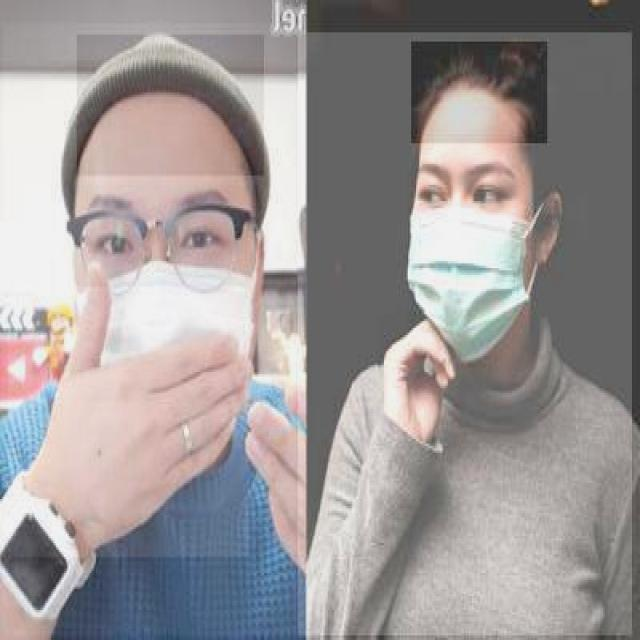face_mask: (70, 185, 260, 402), (408, 159, 534, 370)
glasses: (66, 201, 260, 287)
hand_noglove: (7, 287, 250, 559), (376, 312, 466, 446)
head_nohelmet: (75, 35, 264, 178), (410, 41, 547, 146)
person: (296, 33, 632, 639), (2, 23, 296, 638)
